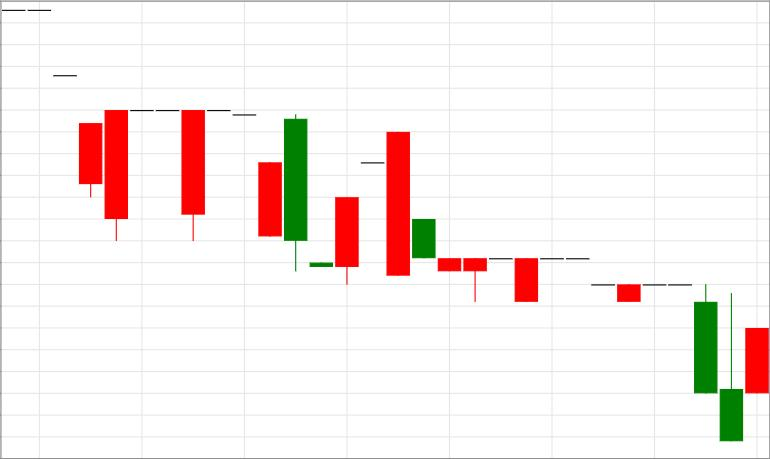inverse_hammer_rise: (387, 132, 743, 441)
